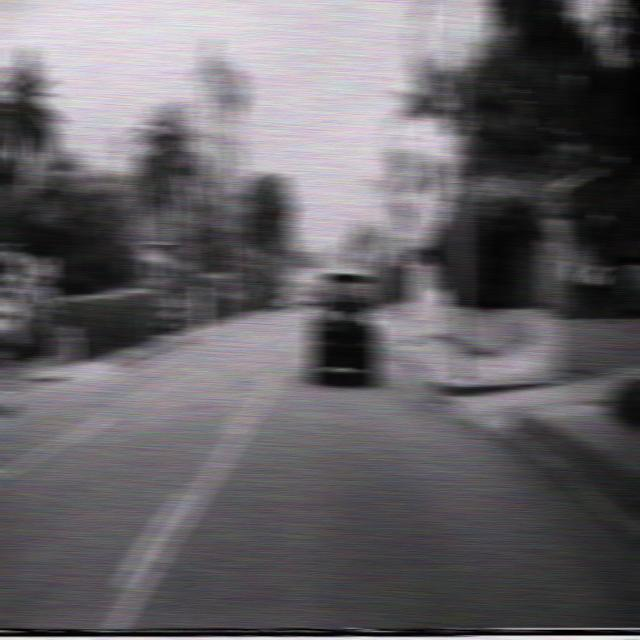pedestrianCrossing: (388, 195, 420, 245)
